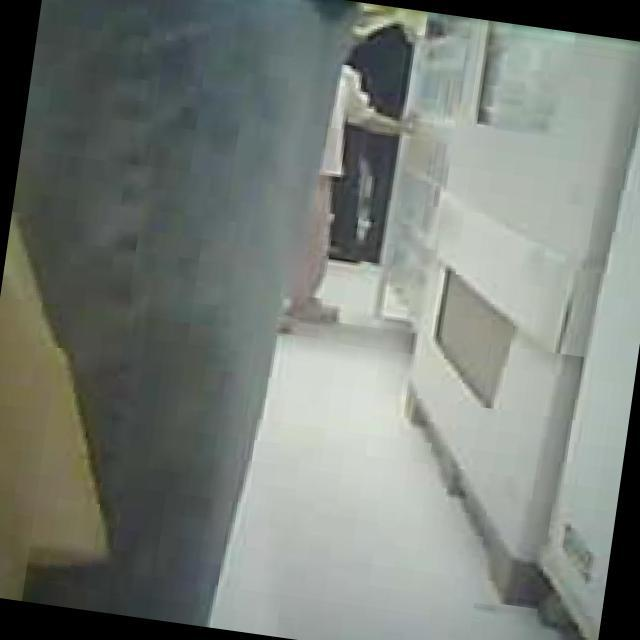person: (273, 62, 414, 346), (320, 13, 418, 270)
